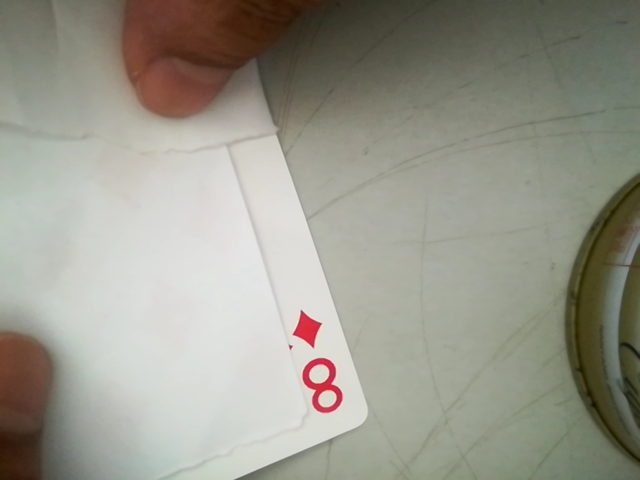fk 8: (286, 301, 355, 423)
